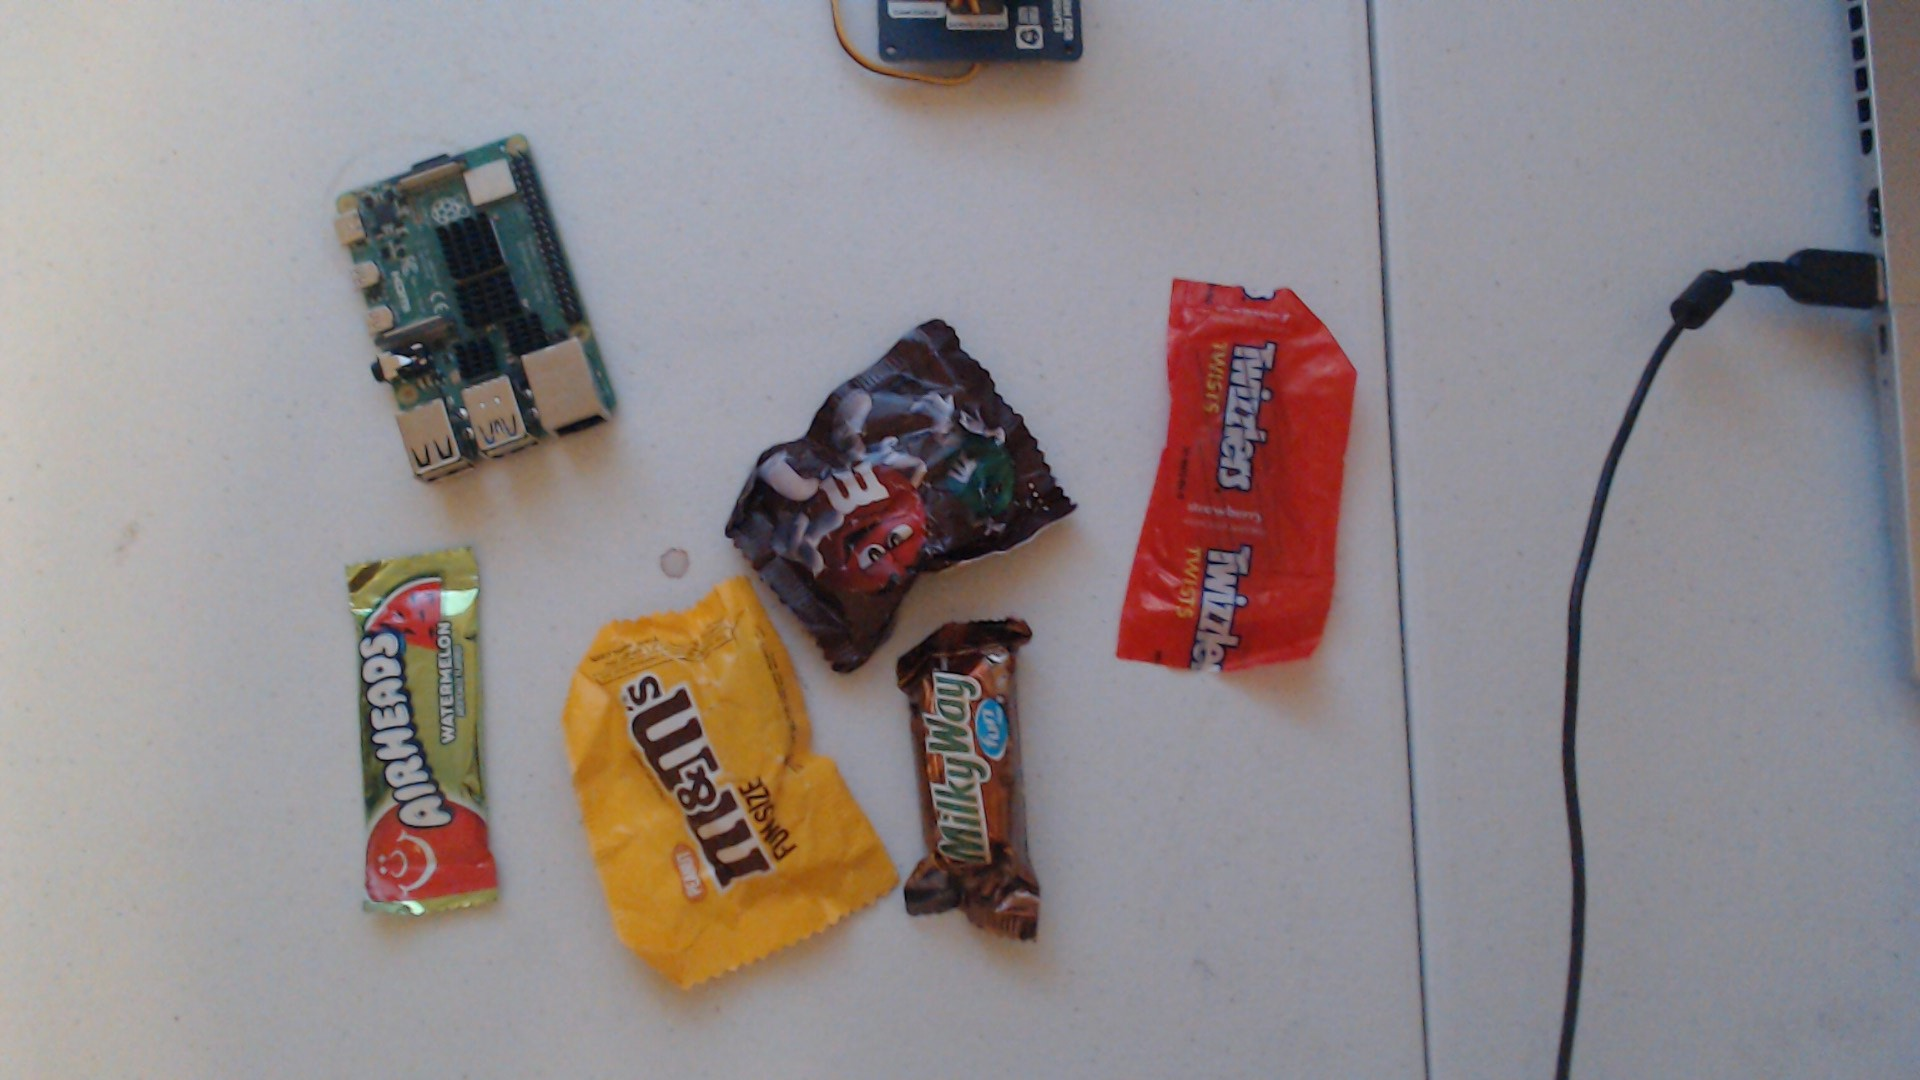MMs_peanut: (659, 306, 1081, 673)
MMs_regular: (539, 559, 885, 1007)
airheads: (327, 526, 514, 947)
milky_way: (891, 611, 1104, 949)
twizzlers: (1121, 243, 1333, 678)
